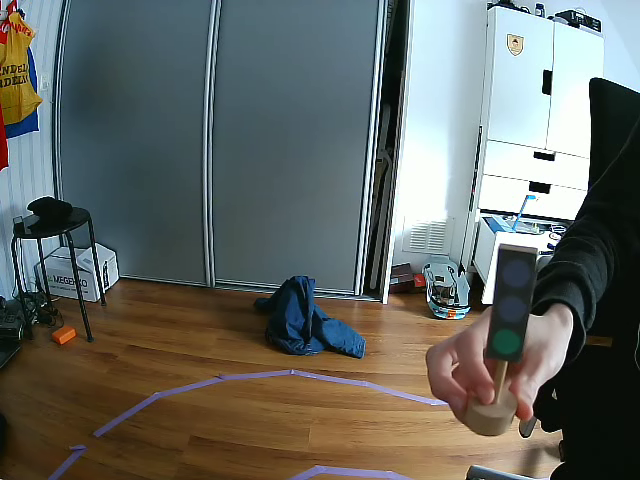groenlicht: (483, 248, 539, 359)
